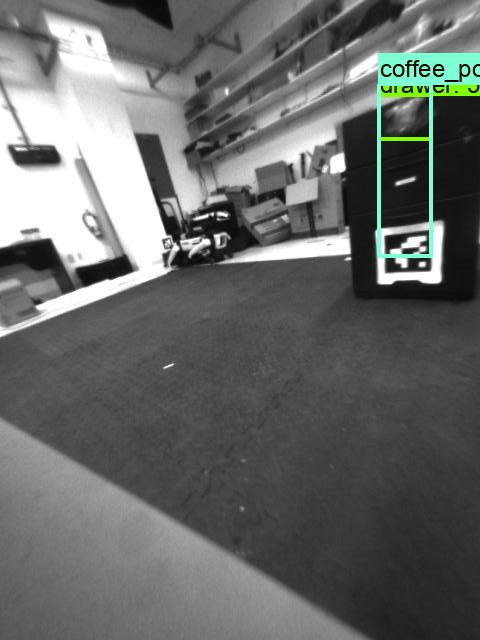drawer: (381, 98, 435, 138)
